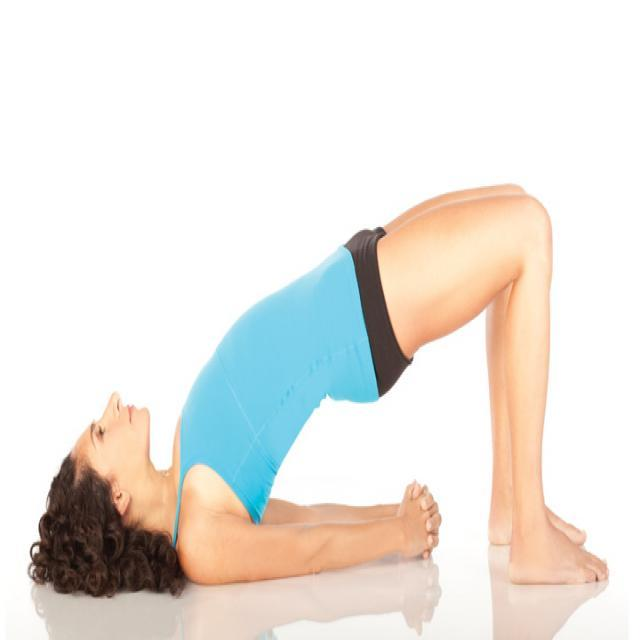yoga-pose bridge: (38, 138, 600, 589)
